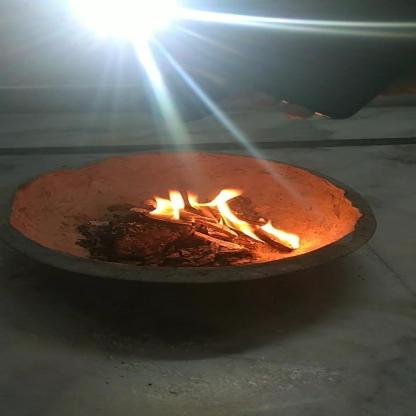fire: (145, 187, 253, 243), (255, 220, 308, 252)
